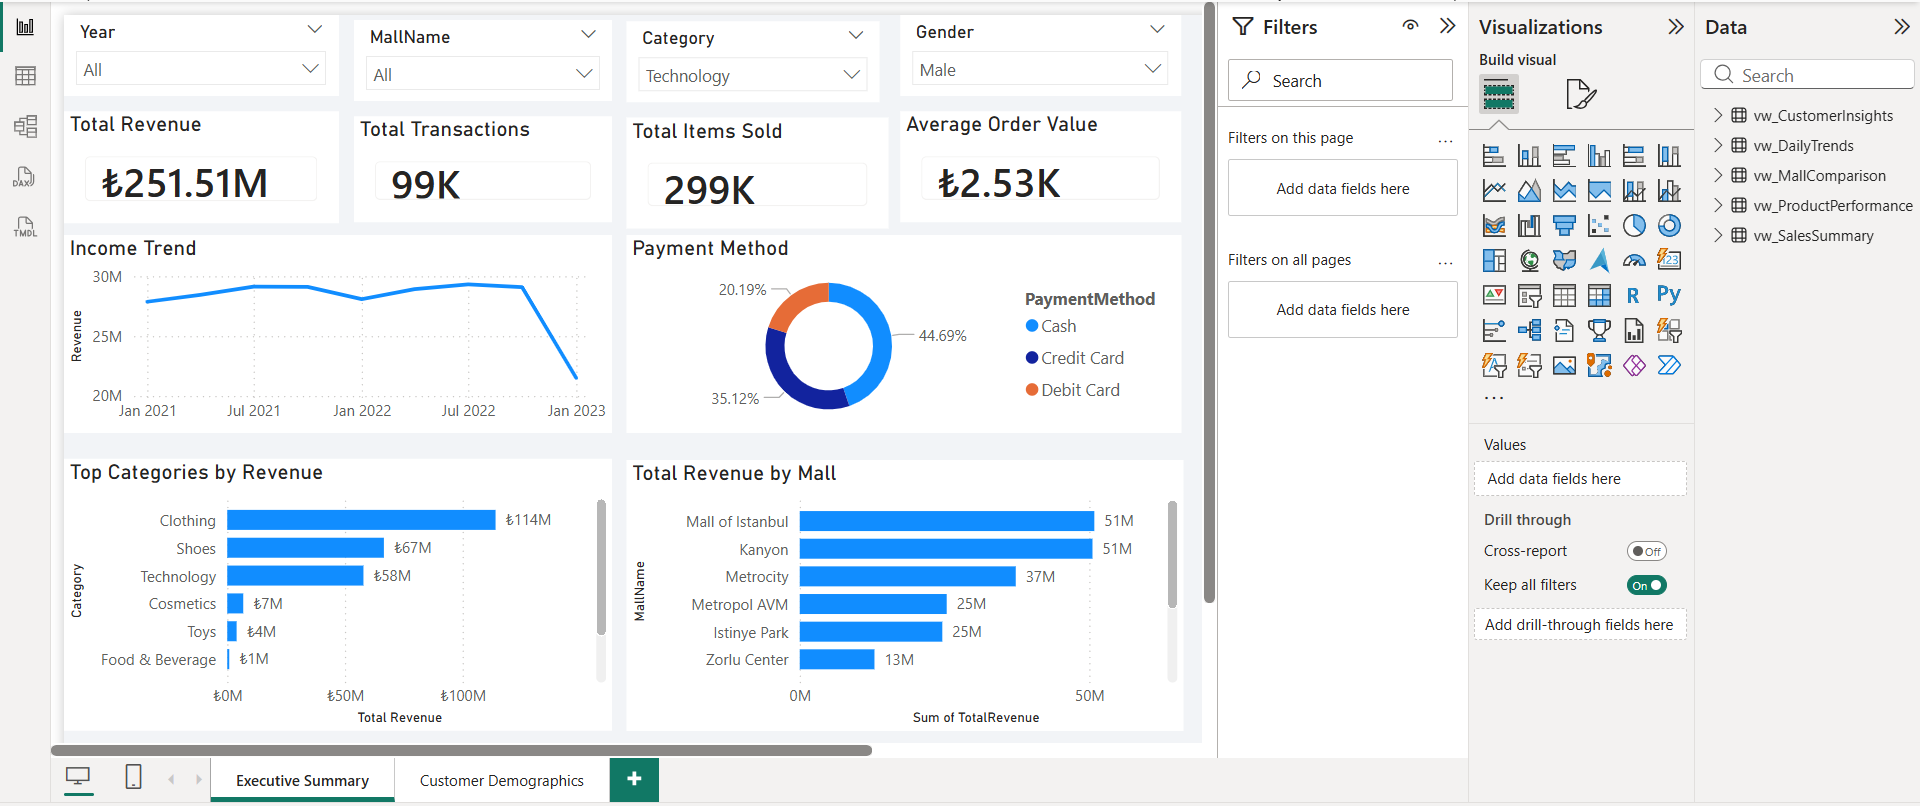

The page's visual inventory and layout, read from the dashboard file:
{"tool":"powerbi","page":{"name":"Executive Summary","canvas":[1280,720],"ordinal":0},"visuals":[{"type":"cardVisual","title":"Total Revenue","fields":{"Data":["vw_SalesSummary.Total Revenue"]},"box":[0,73,228,85],"z":0},{"type":"cardVisual","title":"Total Transactions","fields":{"Data":["vw_SalesSummary.Total Transactions"]},"box":[244,73,258,90],"z":1000},{"type":"cardVisual","title":"Total Items Sold","fields":{"Data":["vw_SalesSummary.Total Items Sold"]},"box":[516,70,279,93],"z":2000},{"type":"lineChart","title":"Income Trend","fields":{"Category":["vw_DailyTrends.SaleDate.Variation.Date Hierarchy.Year","vw_DailyTrends.SaleDate.Variation.Date Hierarchy.Quarter","vw_DailyTrends.SaleDate.Variation.Date Hierarchy.Month","vw_DailyTrends.SaleDate.Variation.Date Hierarchy.Day"],"Y":["Sum(vw_DailyTrends.DailyRevenue)"]},"box":[0,176,502,159],"z":3000},{"type":"donutChart","title":"Payment Method","fields":{"Category":["vw_SalesSummary.PaymentMethod"],"Y":["CountNonNull(vw_SalesSummary.PaymentMethod)"]},"box":[516,176,556,159],"z":4000},{"type":"clusteredBarChart","title":"Top Categories by Revenue","fields":{"Category":["vw_ProductPerformance.Category"],"Y":["vw_SalesSummary.Total Revenue"]},"box":[0,347,502,231],"z":5000},{"type":"clusteredBarChart","title":"Total Revenue by Mall","fields":{"Category":["vw_MallComparison.MallName"],"Y":["Sum(vw_SalesSummary.TotalRevenue)"]},"box":[517,347,556,234],"z":6000},{"type":"cardVisual","title":"Average Order Value","fields":{"Data":["vw_SalesSummary.Average Order Value"]},"box":[805,73,267,95],"z":7000},{"type":"slicer","fields":{"Values":["vw_SalesSummary.Year"]},"box":[0,0,228,65],"z":8000},{"type":"slicer","fields":{"Values":["vw_MallComparison.MallName"]},"box":[244,0,261,65],"z":9000},{"type":"slicer","fields":{"Values":["vw_CustomerInsights.Category"]},"box":[516,0,279,65],"z":10000},{"type":"slicer","fields":{"Values":["vw_CustomerInsights.Gender"]},"box":[805,0,267,65],"z":11000}]}

Visuals, with their boxes on the page's 1280x720 design canvas (x1, y1, x2, y2). These are canvas units, not pixel positions in the 1920x806 screenshot, which may show the page scaled, cropped or inside an application window:
"Total Revenue" cardVisual: x1=0, y1=73, x2=228, y2=158
"Total Transactions" cardVisual: x1=244, y1=73, x2=502, y2=163
"Total Items Sold" cardVisual: x1=516, y1=70, x2=795, y2=163
"Income Trend" lineChart: x1=0, y1=176, x2=502, y2=335
"Payment Method" donutChart: x1=516, y1=176, x2=1072, y2=335
"Top Categories by Revenue" clusteredBarChart: x1=0, y1=347, x2=502, y2=578
"Total Revenue by Mall" clusteredBarChart: x1=517, y1=347, x2=1073, y2=581
"Average Order Value" cardVisual: x1=805, y1=73, x2=1072, y2=168
slicer - vw_SalesSummary.Year: x1=0, y1=0, x2=228, y2=65
slicer - vw_MallComparison.MallName: x1=244, y1=0, x2=505, y2=65
slicer - vw_CustomerInsights.Category: x1=516, y1=0, x2=795, y2=65
slicer - vw_CustomerInsights.Gender: x1=805, y1=0, x2=1072, y2=65
